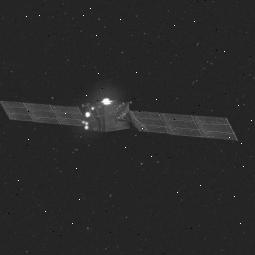smart_1: (23, 83, 240, 142)
